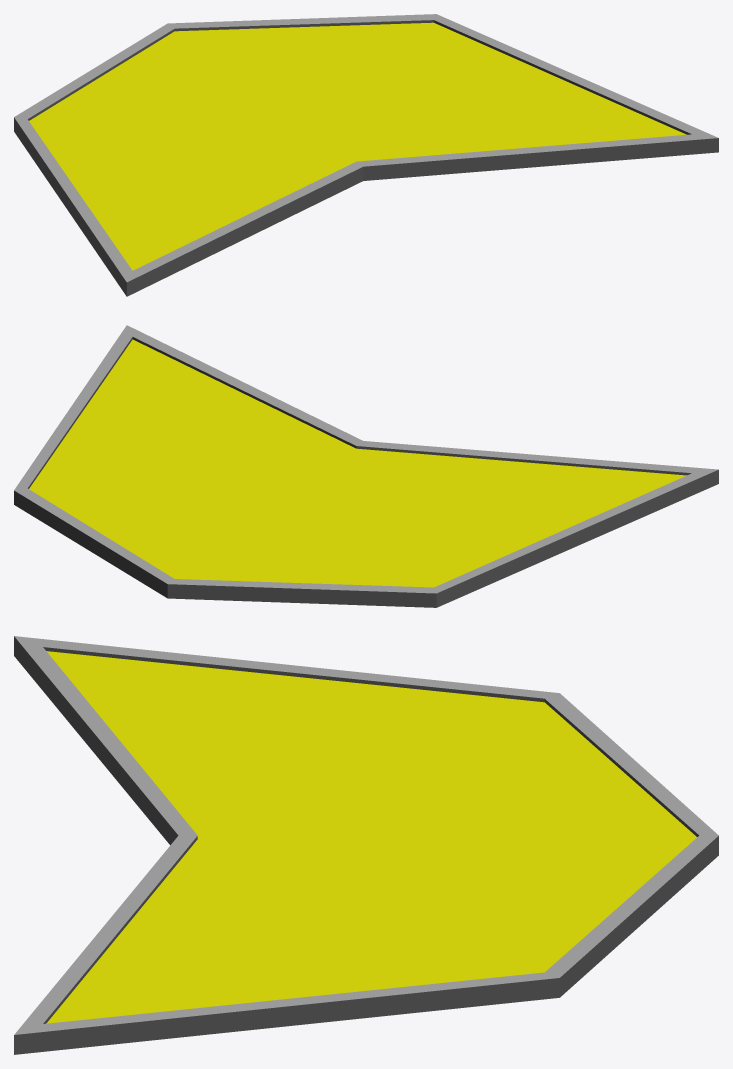
File: jiantou_3.fbx
3 renders of one model, top to bottom at view 1: azimuth 30°, elevation 25°; view 2: azimuth 150°, elevation 25°; view 3: azimuth 270°, elevation 25°, orthographic. The views are drawn at different scales.
Parts seen in each view (by area): view 1: polySurface4, polySurface10, polySurface7; view 2: polySurface4, polySurface10, polySurface7; view 3: polySurface4, polySurface7, polySurface10.
Part boxes in pixels (x1,y1,x2,y2): polySurface4: [29, 22, 686, 270]; polySurface10: [14, 20, 718, 296]; polySurface7: [14, 14, 717, 282]; polySurface4: [29, 339, 686, 587]; polySurface10: [14, 337, 718, 607]; polySurface7: [14, 325, 718, 593]; polySurface4: [46, 651, 696, 1023]; polySurface7: [14, 636, 718, 1034]; polySurface10: [14, 636, 718, 1054].
Size of the model in its own units: 35.22 by 0.8185 by 26.3.
